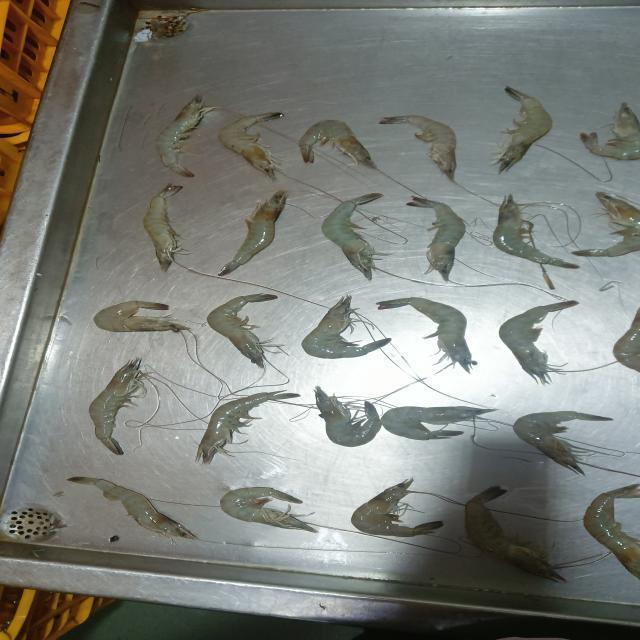shrimp: (465, 487, 563, 581), (69, 477, 197, 539), (197, 392, 299, 463), (1, 54, 43, 224), (379, 298, 474, 371), (499, 300, 577, 383), (513, 412, 614, 474), (494, 195, 578, 267), (218, 191, 287, 276), (207, 293, 283, 368), (89, 358, 146, 455), (322, 194, 387, 279), (303, 296, 390, 358), (351, 478, 443, 536), (584, 484, 639, 578), (380, 115, 455, 180), (408, 196, 465, 280), (496, 87, 552, 171), (220, 487, 319, 532), (156, 96, 211, 175), (315, 386, 385, 447), (219, 113, 283, 178), (573, 193, 639, 255), (382, 407, 495, 440), (300, 120, 375, 167), (144, 186, 185, 271), (581, 102, 639, 159), (94, 301, 189, 331), (615, 309, 639, 371)
